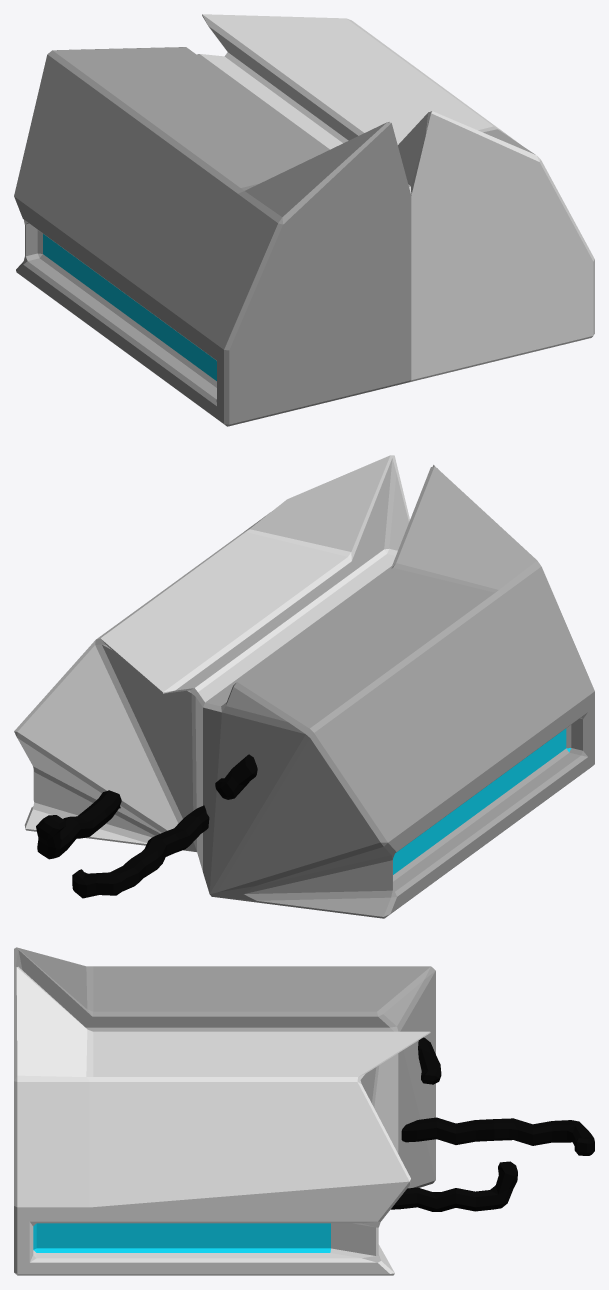
Rendered from Wall_FenetreBrokenBottomPart2.fbx.
The picture shows the model from 3 angles, top to bottom: view 1: azimuth 30°, elevation 25°; view 2: azimuth 150°, elevation 25°; view 3: azimuth 270°, elevation 25°; orthographic projection. The views are drawn at different scales.
Visible parts, largest first — view 1: Wall_FenetreBrokenBottomPart2; view 2: Wall_FenetreBrokenBottomPart2, MetalTubeTordu.005, MetalTubeTordu.006, MetalTubeTordu.004; view 3: Wall_FenetreBrokenBottomPart2, MetalTubeTordu.005, MetalTubeTordu.006, MetalTubeTordu.004.
Boxes of the visible parts, bbox=[...] form: Wall_FenetreBrokenBottomPart2: bbox=[14, 14, 594, 426]; Wall_FenetreBrokenBottomPart2: bbox=[14, 455, 594, 918]; MetalTubeTordu.005: bbox=[72, 805, 209, 898]; MetalTubeTordu.006: bbox=[36, 790, 121, 859]; MetalTubeTordu.004: bbox=[215, 754, 257, 799]; Wall_FenetreBrokenBottomPart2: bbox=[14, 947, 435, 1275]; MetalTubeTordu.005: bbox=[401, 1117, 594, 1155]; MetalTubeTordu.006: bbox=[391, 1161, 517, 1211]; MetalTubeTordu.004: bbox=[418, 1037, 441, 1084].
Bounding box in the file's own units: 200 × 137 × 302.
